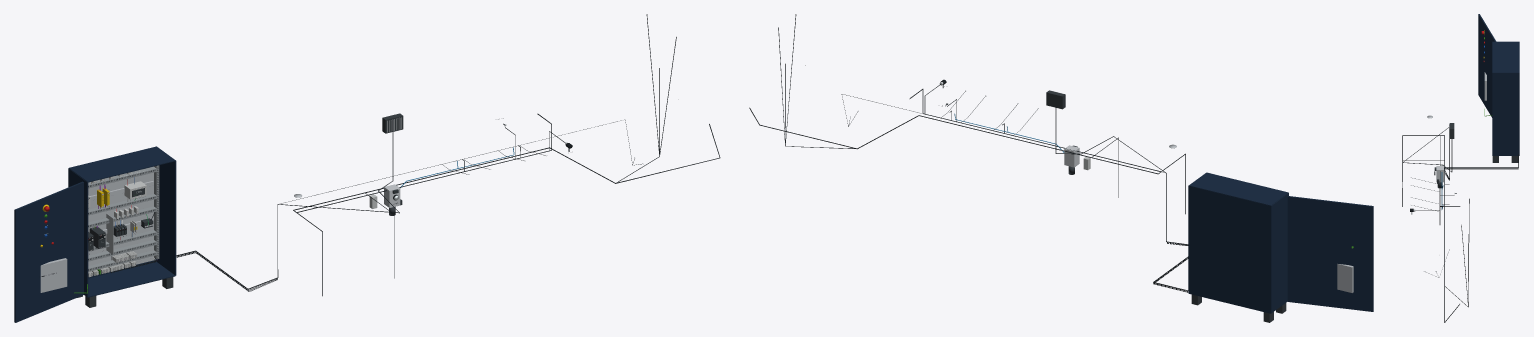
Rendered from cabinet_detail.glb.
3 renders of one model, left to right at view 1: azimuth 30°, elevation 25°; view 2: azimuth 150°, elevation 25°; view 3: azimuth 270°, elevation 25°, orthographic. The views are drawn at different scales.
Parts seen in each view (by area): view 1: Cabinet; view 2: Cabinet; view 3: Cabinet.
Part boxes in pixels (<box>): Cabinet: <box>14,14,720,322</box>; Cabinet: <box>749,14,1373,322</box>; Cabinet: <box>1402,14,1519,322</box>.
Size of the model in its own units: 6.2 by 1.51 by 1.28.
